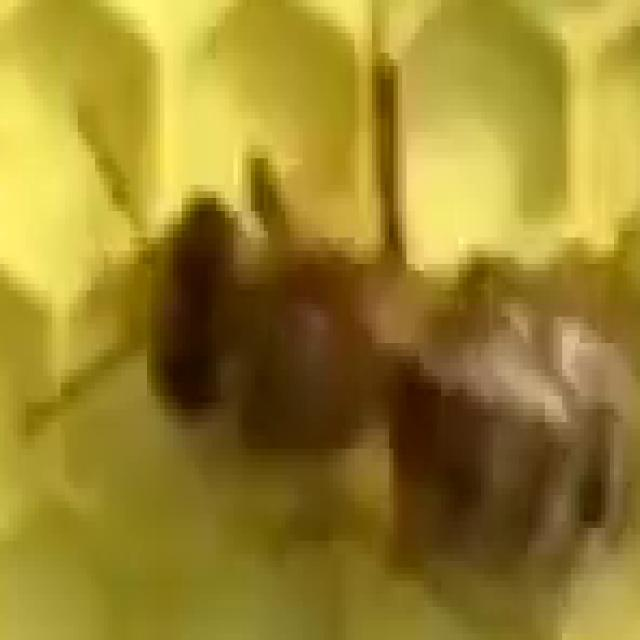honeybee: (94, 119, 640, 640)
